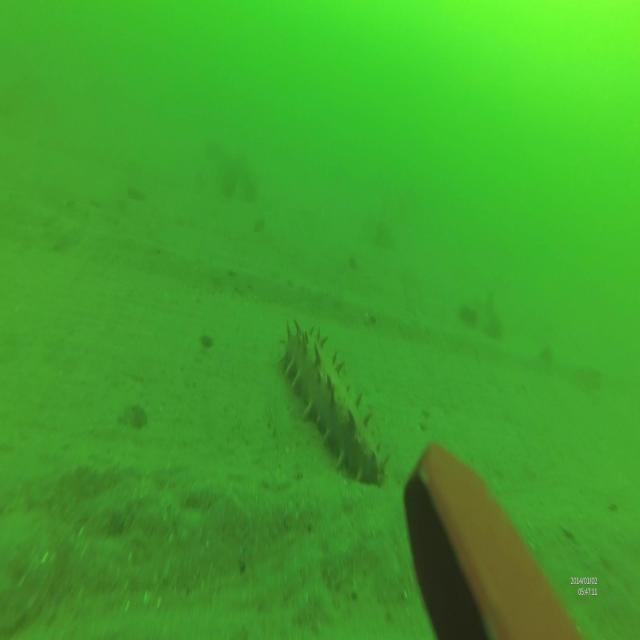holothurian: (279, 318, 387, 487)
